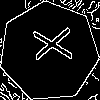X: (24, 26, 72, 63)
